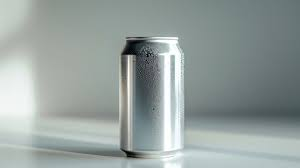can: (117, 35, 189, 161)
